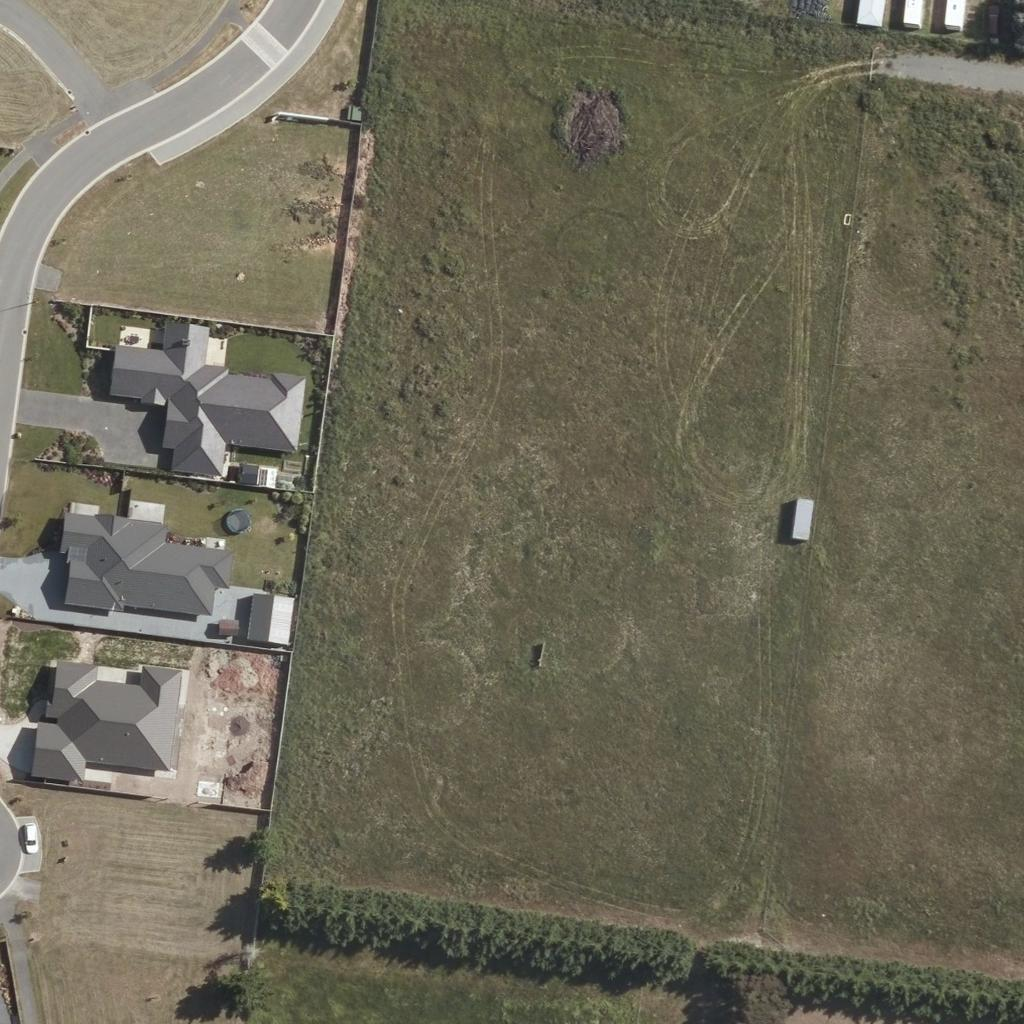car: (13, 819, 47, 853)
